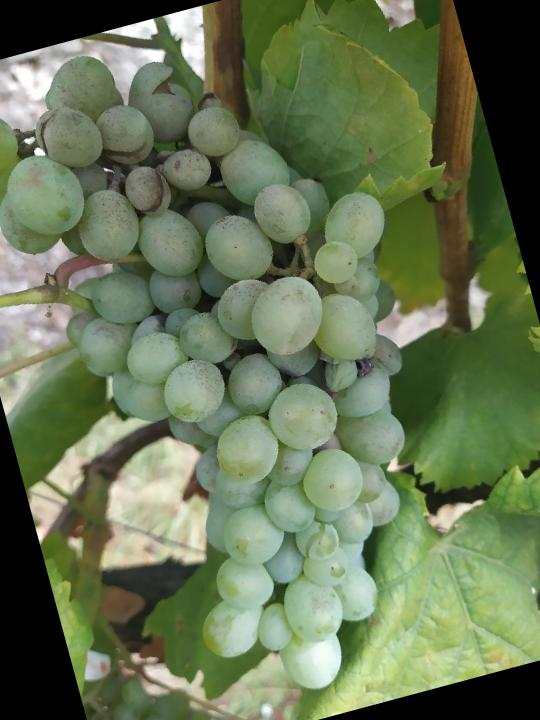grape: (0, 0, 503, 720)
